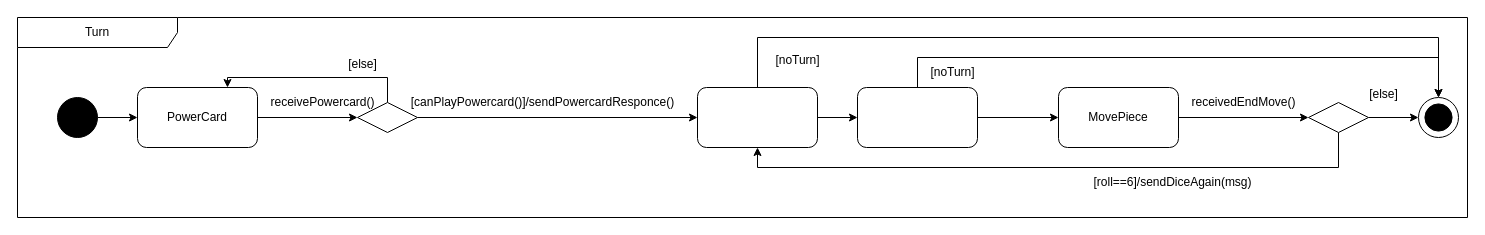
This 1485x235 diagram has some shape labels left out. The shapes that lost their labels are listed below. From the top down, each one's centre as x and y in pixels, then its label:
(757,117): RollDice
(917,117): ChoosePiece
